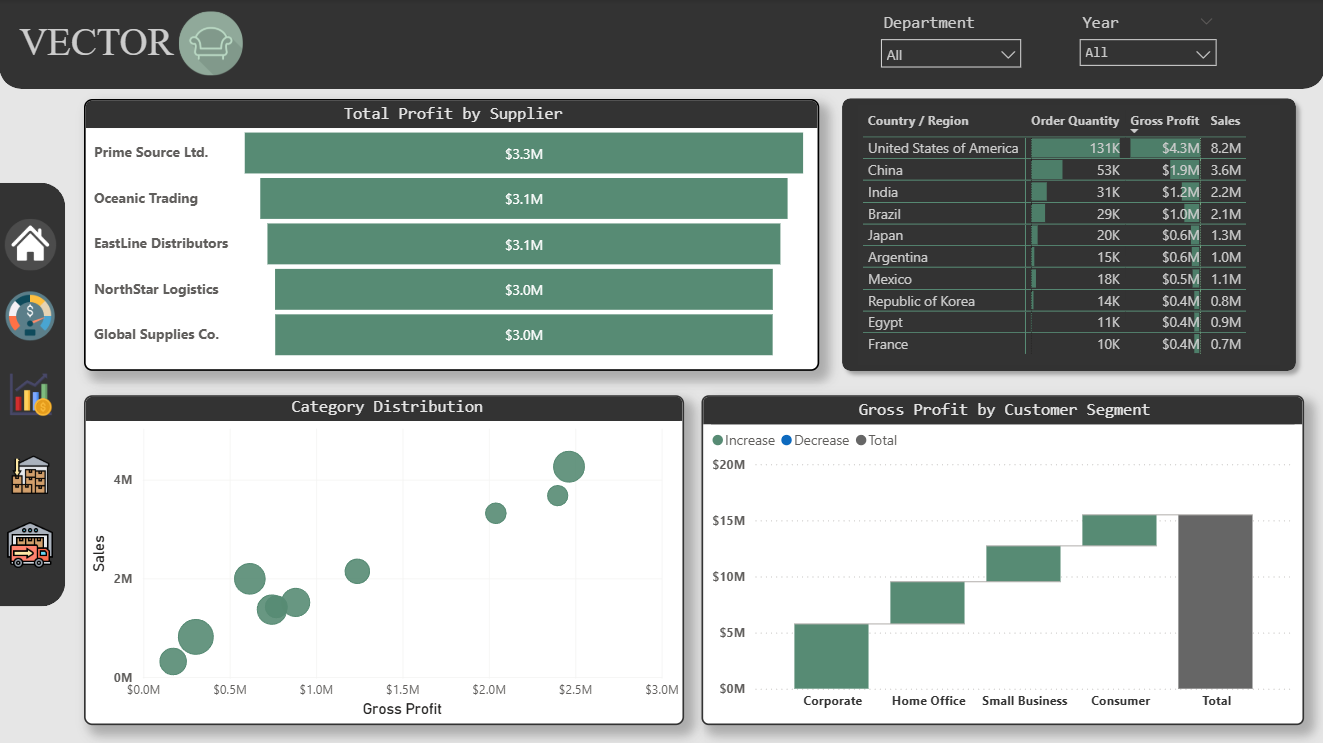

This screenshot's page, from the dashboard's own definition file:
{"tool":"powerbi","page":{"name":"Sales","canvas":[1280,720],"ordinal":2},"visuals":[{"type":"shape","box":[0,0,1280,86.9],"z":0,"group":"g5"},{"type":"shape","box":[804.1,86.4,456,281.1],"z":0,"group":"g2"},{"type":"funnel","title":"Total Profit by Supplier","fields":{"Category":["Dim_Suppliers.Supplier Name"],"Y":["Measurments.Total Profit"]},"box":[82.3,96.1,709.4,262.1],"z":0},{"type":"shape","box":[0,177.3,63.9,409],"z":0,"group":"g4"},{"type":"group","id":"g1","title":"Group 3","box":[0,0,1280,86.9],"z":500,"group":"g3"},{"type":"textbox","box":[14.5,14.5,170.1,55.5],"z":1000,"group":"g5"},{"type":"image","box":[0.1,207.5,60.3,59.1],"z":1000,"group":"g4"},{"type":"waterfallChart","fields":{"Y":["Measurments.Total Profit"],"Category":["Dim_Customers.Customer Segment","Dim_Product.Category"]},"box":[677.9,382.8,581.8,318.4],"z":1000},{"type":"group","id":"g2","title":"Group 6","box":[804.1,86.4,455.6,281.3],"z":2000},{"type":"image","box":[0.1,275,60.3,61.5],"z":2000,"group":"g4"},{"type":"scatterChart","title":"Category Distribution ","fields":{"X":["Measurments.Total Profit"],"Y":["Sum(Fact_SC.Sales)"],"Size":["Sum(Fact_SC.Order Quantity)"],"Category":["Dim_Product.Category"]},"box":[82.3,382.8,579.1,318.4],"z":3000},{"type":"image","box":[0.1,499.4,60.3,55.5],"z":3000,"group":"g4"},{"type":"group","id":"g3","title":"Group 4","box":[0,0,1280,86.9],"z":4000},{"type":"image","box":[1.3,435.5,57.9,47.1],"z":4000,"group":"g4"},{"type":"group","id":"g4","title":"Group 1","box":[0,177.3,63.9,409],"z":5000},{"type":"image","box":[1.9,355.9,56.7,51.9],"z":5000,"group":"g4"},{"type":"image","box":[168.9,7.2,71.2,71.2],"z":5001,"group":"g3"},{"type":"pivotTable","fields":{"Rows":["Dim_Geo.Country / Region"],"Values":["Sum(Fact_SC.Order Quantity)","Measurments.Total Profit","Sum(Fact_SC.Sales)"]},"box":[828.2,102.1,407.8,250.9],"z":6000,"group":"g2"},{"type":"slicer","fields":{"Values":["Dim_Product.Department"]},"box":[840.9,8.4,155.6,71.2],"z":6004,"group":"g3"},{"type":"slicer","fields":{"Values":["Dim_Date.Year"]},"box":[1032.7,8.4,152,71.2],"z":8000,"group":"g3"},{"type":"group","id":"g5","title":"Group 2","box":[0,0,1280,86.9],"z":9000,"group":"g1"}]}

Visuals, with their boxes on the page's 1280x720 design canvas (x1, y1, x2, y2). These are canvas units, not pixel positions in the 1323x743 screenshot, which may show the page scaled, cropped or inside an application window:
shape: bbox=[0, 0, 1280, 87]
shape: bbox=[804, 86, 1260, 368]
"Total Profit by Supplier" funnel: bbox=[82, 96, 792, 358]
shape: bbox=[0, 177, 64, 586]
"Group 3" group: bbox=[0, 0, 1280, 87]
textbox: bbox=[14, 14, 185, 70]
image: bbox=[0, 208, 60, 267]
waterfallChart - Measurments.Total Profit x Dim_Customers.Customer Segment: bbox=[678, 383, 1260, 701]
"Group 6" group: bbox=[804, 86, 1260, 368]
image: bbox=[0, 275, 60, 336]
"Category Distribution " scatterChart: bbox=[82, 383, 661, 701]
image: bbox=[0, 499, 60, 555]
"Group 4" group: bbox=[0, 0, 1280, 87]
image: bbox=[1, 436, 59, 483]
"Group 1" group: bbox=[0, 177, 64, 586]
image: bbox=[2, 356, 59, 408]
image: bbox=[169, 7, 240, 78]
pivotTable - Dim_Geo.Country / Region x Sum(Fact_SC.Order Quantity): bbox=[828, 102, 1236, 353]
slicer - Dim_Product.Department: bbox=[841, 8, 996, 80]
slicer - Dim_Date.Year: bbox=[1033, 8, 1185, 80]
"Group 2" group: bbox=[0, 0, 1280, 87]
